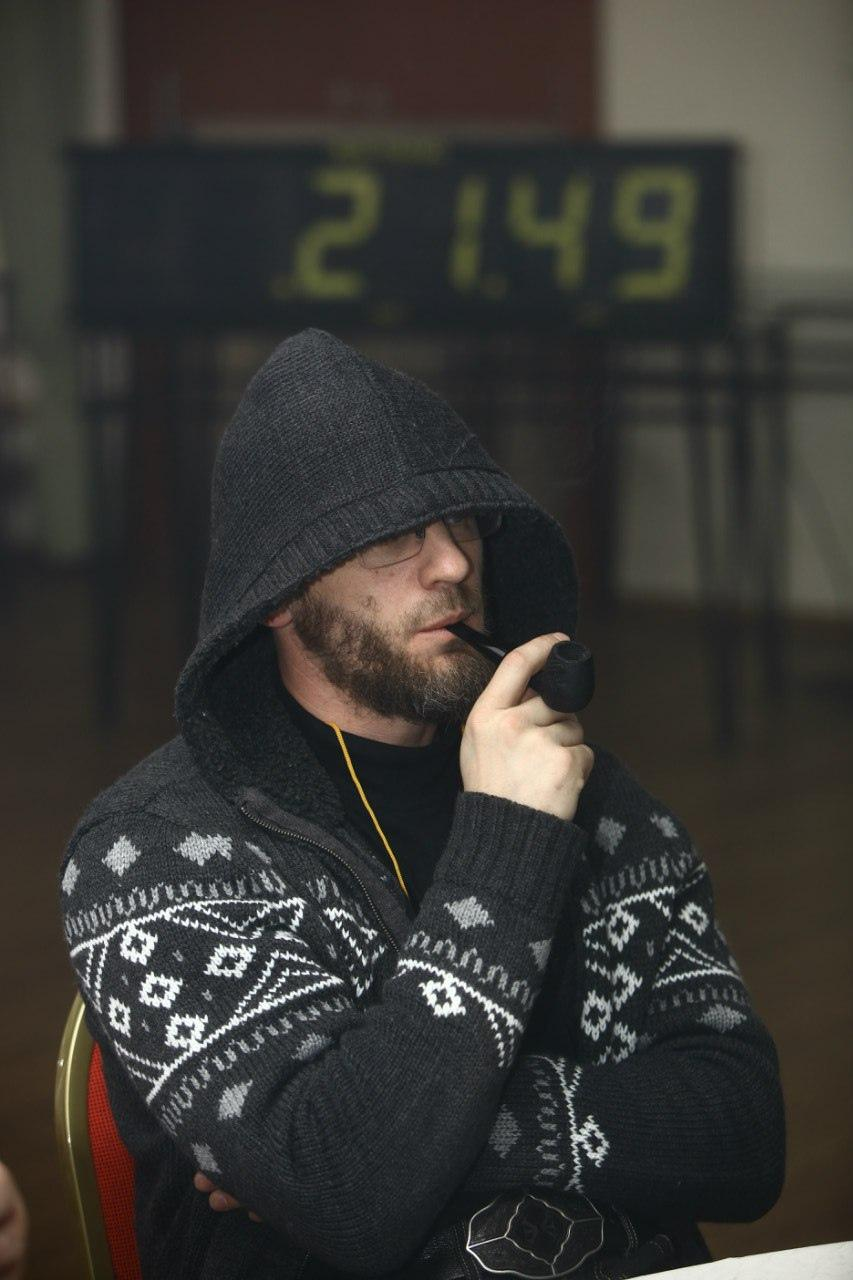trubka: (445, 621, 595, 714)
